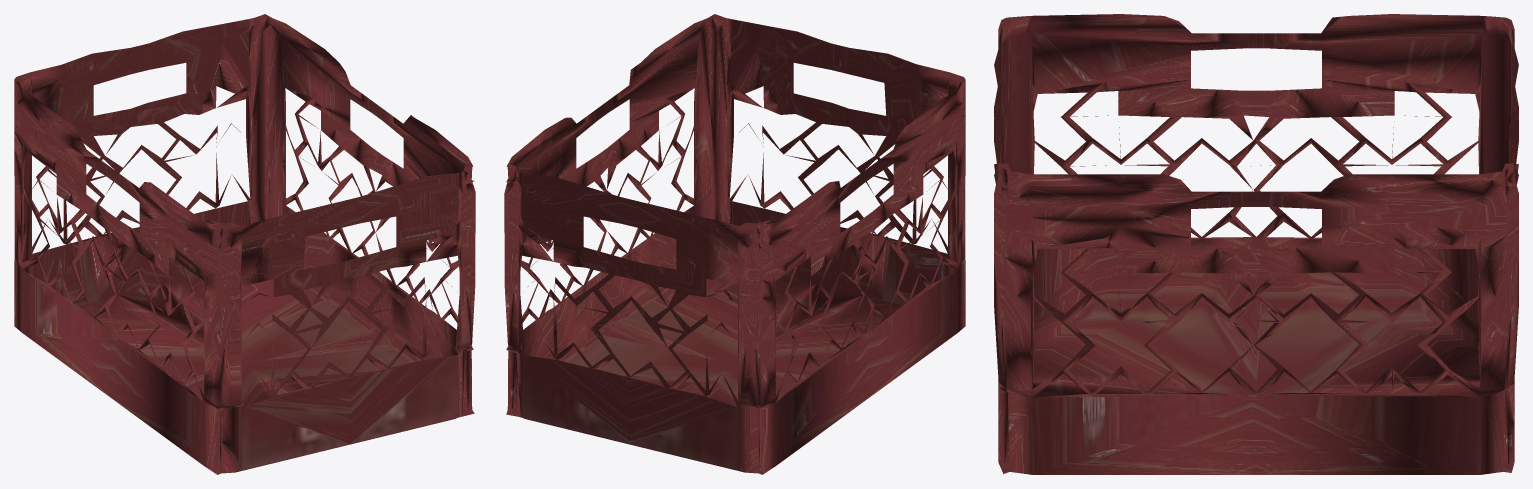
File: crate-plastic.4b92961c.glb
3 renders of one model, left to right at view 1: azimuth 30°, elevation 25°; view 2: azimuth 150°, elevation 25°; view 3: azimuth 270°, elevation 25°, orthographic. The views are drawn at different scales.
Parts seen in each view (by area): view 1: model; view 2: model; view 3: model.
Part boxes in pixels (x1,y1,x2,y2): model: (14, 14, 475, 474); model: (504, 14, 965, 474); model: (994, 14, 1518, 474).
Size of the model in its own units: 0.298 by 0.2642 by 0.408.
Materials: 1 (1 with a texture image).
